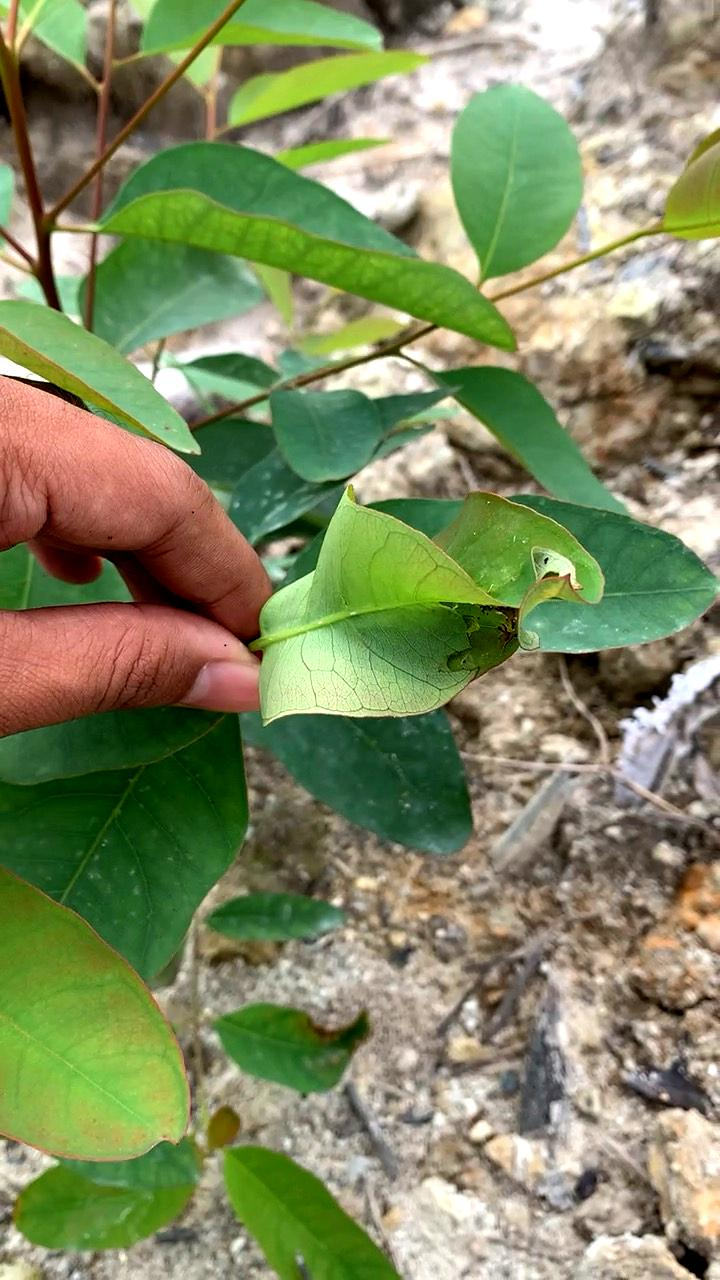Leaf Roller - Leaf: (221, 473, 616, 758)
